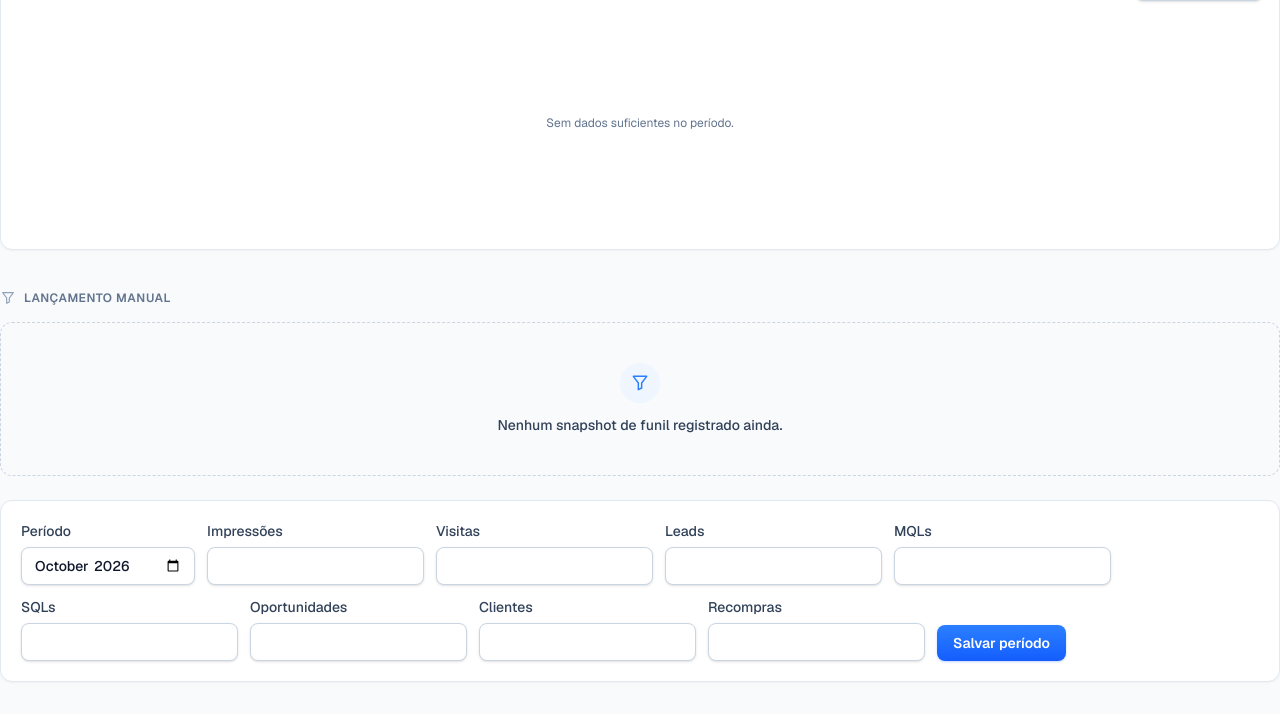
Test: FunnelPage — atualização da análise após lançamento manual › o gráfico do Funil sai de 'sem dados' pra mostrar o período recém-salvo, sem reload
(page scrolled)
Type "100000" into the number field labelled "Impressões". click: [316, 566]
box: left=207, top=547, right=424, bottom=585
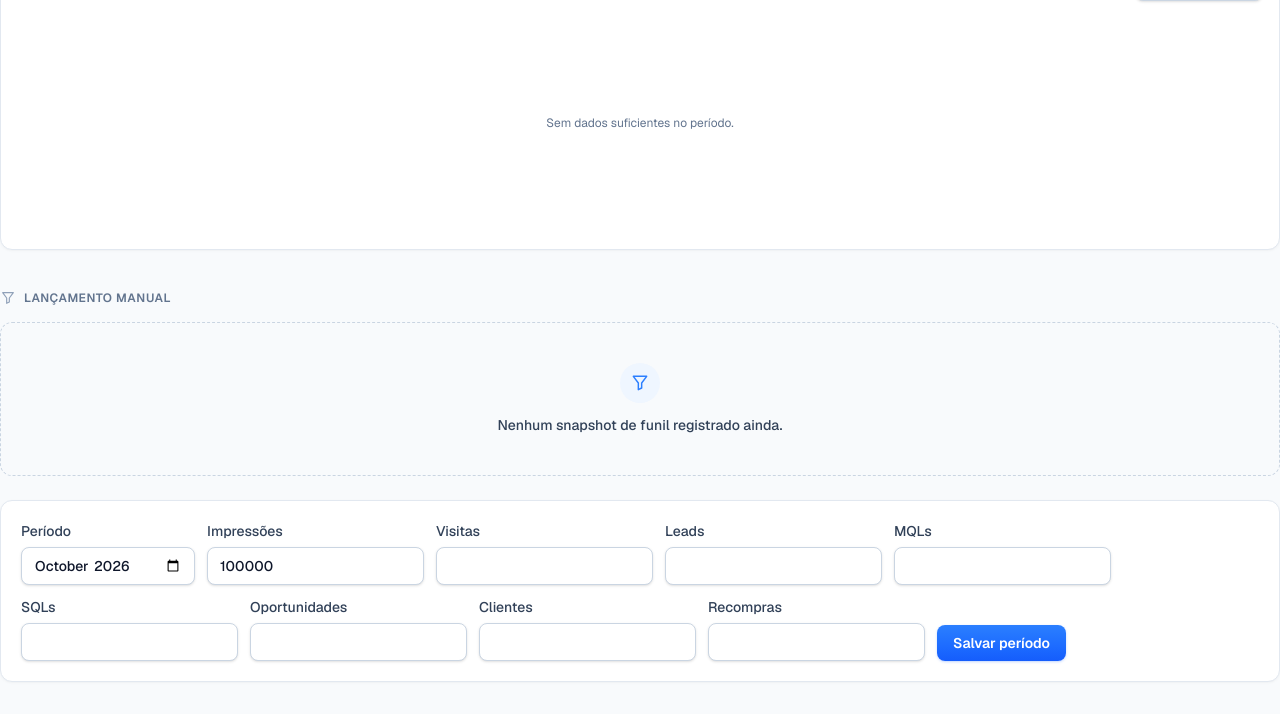
Type "20000" into the number field labelled "Visitas". click: [544, 566]
box: left=436, top=547, right=653, bottom=585
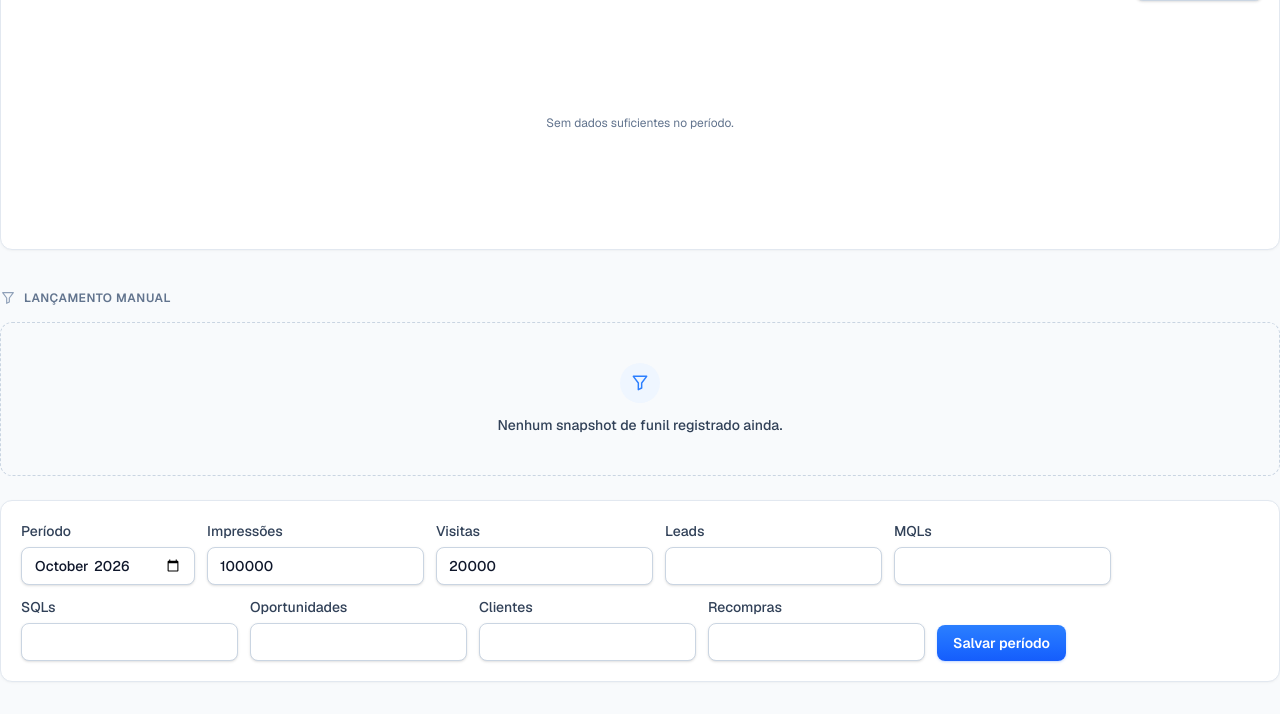
Click the button "Salvar período". click: [1002, 643]
box: left=937, top=625, right=1066, bottom=661
(page scrolled)
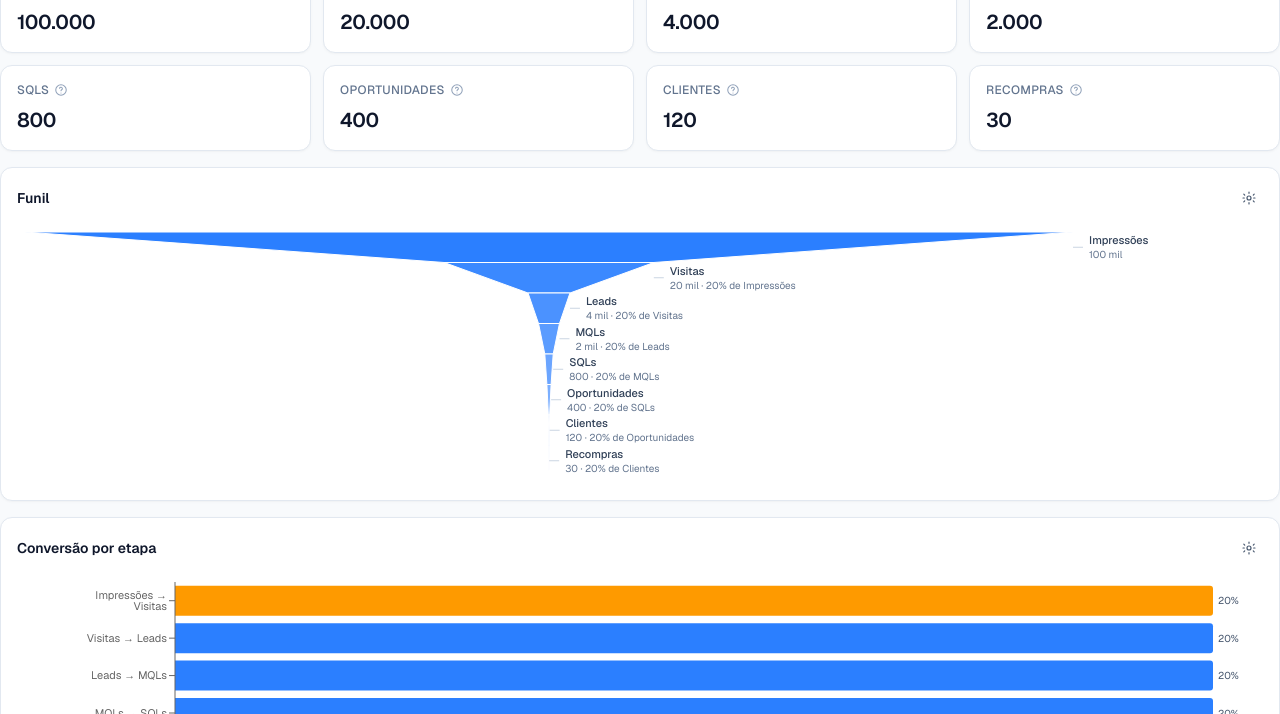
Check: the picture named "Funil" is shown, box left=17, top=224, right=1263, bottom=484
